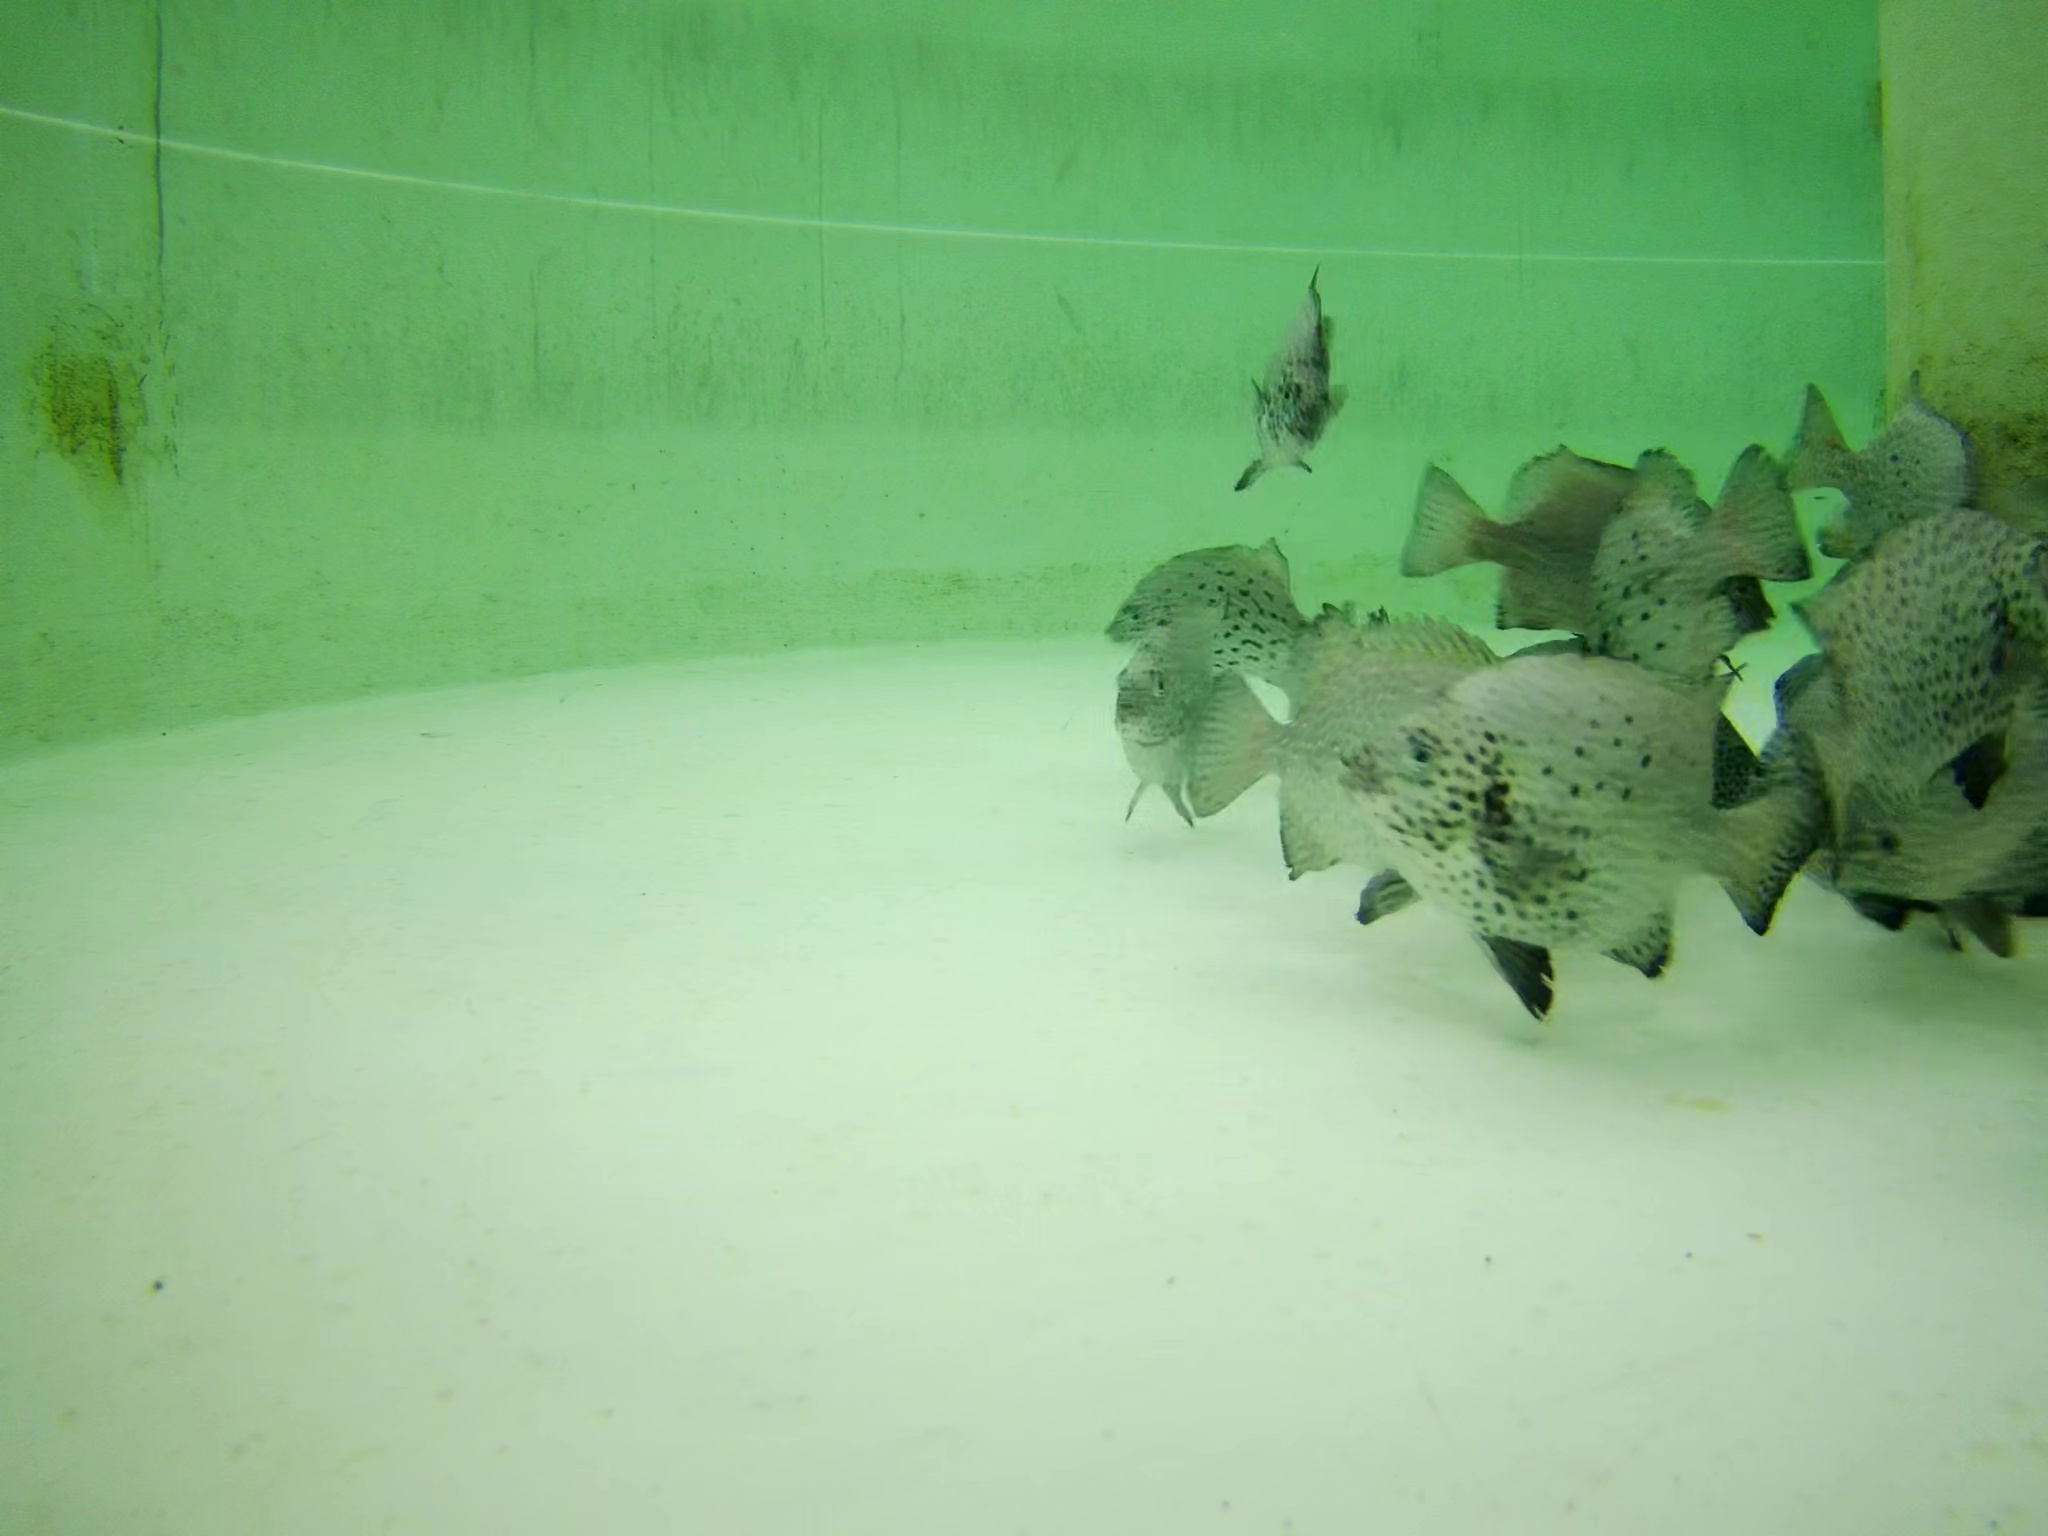fish: (1358, 641, 1825, 978), (1177, 597, 1522, 886), (1814, 502, 2033, 849), (1401, 440, 1705, 647), (1569, 439, 1813, 663), (1777, 365, 1980, 568), (1824, 763, 2048, 942), (1092, 536, 1353, 678), (1101, 618, 1229, 826), (1242, 257, 1347, 487)
